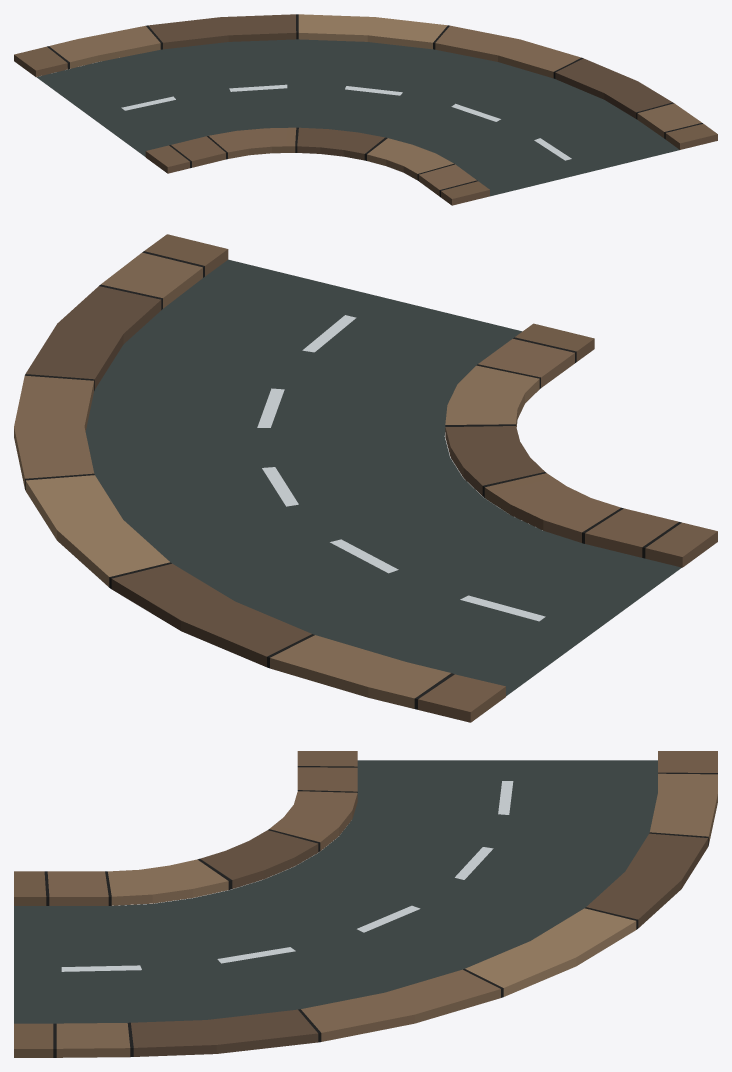
Rendered from Road_1_104.fbx.
The picture shows the model from 3 angles, top to bottom: view 1: azimuth 30°, elevation 25°; view 2: azimuth 150°, elevation 25°; view 3: azimuth 270°, elevation 25°; orthographic projection. The views are drawn at different scales.
Parts seen in each view (by area): view 1: Road_1_104; view 2: Road_1_104; view 3: Road_1_104.
Boxes of the visible parts, x1=… form: Road_1_104: x1=14, y1=14, x2=717, y2=205; Road_1_104: x1=14, y1=234, x2=717, y2=722; Road_1_104: x1=14, y1=751, x2=717, y2=1057.
Size of the model in its own units: 2113 by 30 by 2111.
